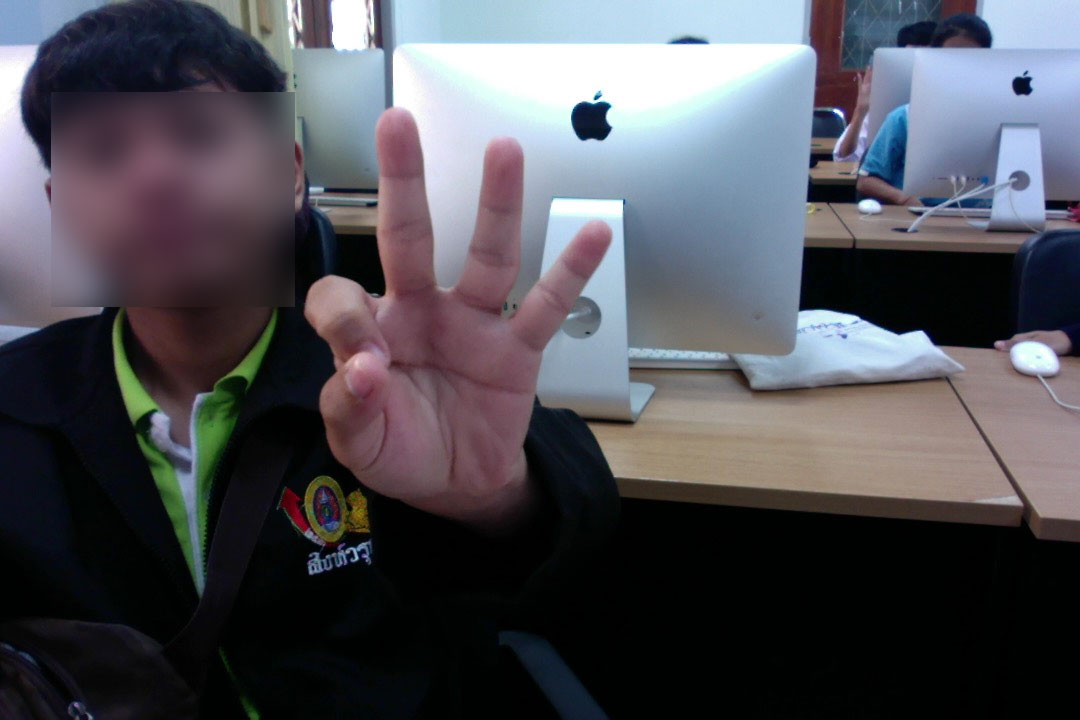for: (295, 100, 619, 520)
